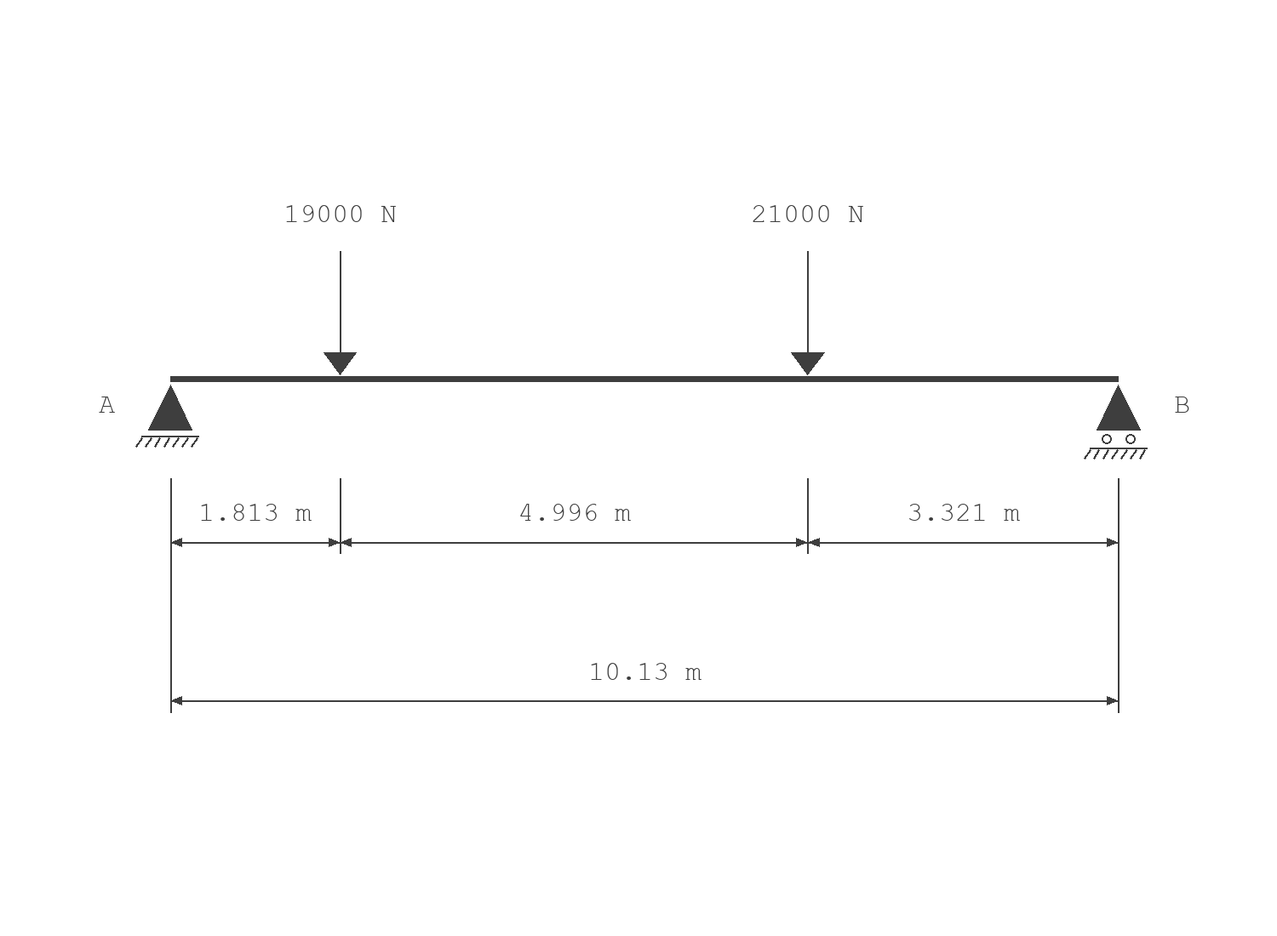pin_support: (135, 385, 199, 448)
point_load: (791, 251, 825, 375), (324, 251, 357, 375)
roller_support: (1084, 385, 1148, 459)
